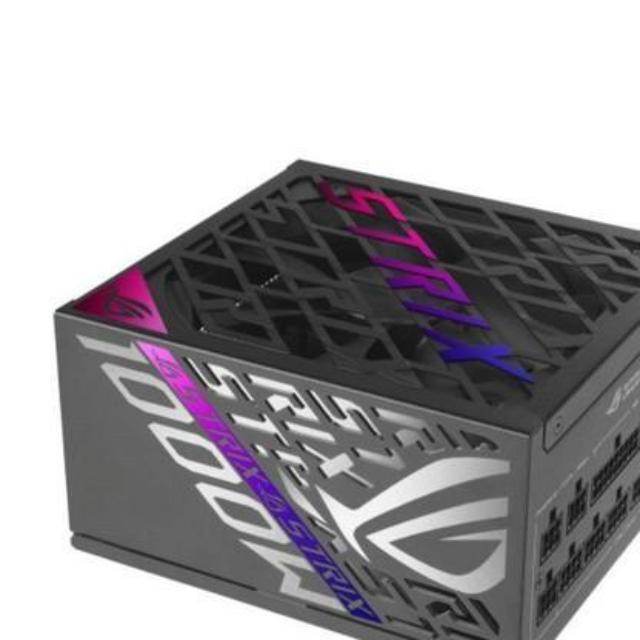PSU: (46, 143, 640, 640)
